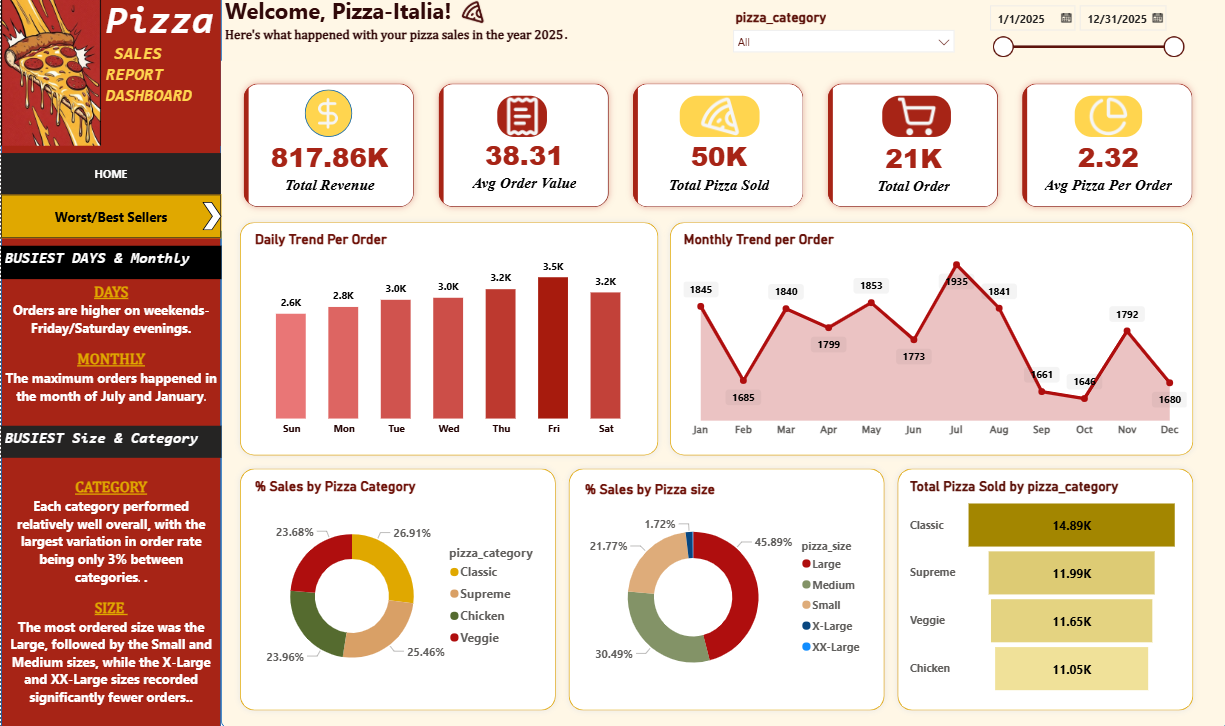

Layout of this report page (visuals, bound fields, positions):
{"tool":"powerbi","page":{"name":"HOME","canvas":[1500,900],"ordinal":0},"visuals":[{"type":"shape","box":[0,0,269,900.3],"z":0},{"type":"shape","box":[269,0,1230.5,900.3],"z":1000},{"type":"image","box":[0,0,122.3,188],"z":2000},{"type":"textbox","box":[122.3,0,146.7,188],"z":3000},{"type":"cardVisual","fields":{"Data":["pizza_sale.Total Revenue","pizza_sale.Avg Order Value","pizza_sale.Total Pizza Sold","pizza_sale.Total Order","pizza_sale.Avg Pizza Per Order"]},"box":[269,84.1,1218.2,207.9],"z":4000},{"type":"shape","box":[371.4,119.2,58.1,58.1],"z":5000},{"type":"image","box":[379.1,119.2,41.3,58.1],"z":6000},{"type":"image","box":[606.8,126.9,61.1,50.4],"z":7000},{"type":"image","box":[830,126.9,97.8,50.4],"z":8000},{"type":"image","box":[1077.6,126.9,84.1,50.4],"z":9000},{"type":"image","box":[1313,126.9,82.5,50.4],"z":10000},{"type":"textbox","box":[269,0,440.2,70.3],"z":11000},{"type":"image","box":[562.5,6.1,29,36.7],"z":12000},{"type":"shape","box":[284.3,273.6,527.3,301.1],"z":13000},{"type":"columnChart","title":"Daily Trend Per  Order","fields":{"Category":["pizza_sale.Order Day "],"Y":["pizza_sale.Total Order"]},"box":[305.7,292,484.5,259.9],"z":14000},{"type":"shape","box":[810.1,273.6,655.7,301.1],"z":15000},{"type":"areaChart","title":"Monthly Trend per Order","fields":{"Category":["pizza_sale.Month"],"Y":["pizza_sale.Total Order"]},"box":[830,292,625.2,264.4],"z":16000},{"type":"shape","box":[284.3,574.7,402,311.8],"z":17000},{"type":"shape","box":[686.3,574.7,402,311.8],"z":18000},{"type":"shape","box":[1088.3,574.7,377.5,311.8],"z":19000},{"type":"donutChart","title":"% Sales by Pizza Category","fields":{"Category":["pizza_sale.pizza_category"],"Y":["pizza_sale.Total Revenue"]},"box":[305.7,594.6,362.3,269],"z":20000},{"type":"donutChart","title":"% Sales by Pizza size","fields":{"Category":["pizza_sale.pizza_size"],"Y":["pizza_sale.Total Revenue"]},"box":[709.2,597.7,357.7,266],"z":21000},{"type":"funnel","fields":{"Category":["pizza_sale.pizza_category"],"Y":["pizza_sale.Total Pizza Sold"]},"box":[1106.3,594.1,338.8,269.5],"z":22000},{"type":"textbox","box":[0,310.5,269.5,41],"z":23000},{"type":"textbox","box":[0,351.4,269.5,165.5],"z":24000},{"type":"textbox","box":[0,531.1,269.5,39.4],"z":25000},{"type":"textbox","box":[0,573.7,269.5,312],"z":26000},{"type":"slicer","fields":{"Values":["pizza_sale.pizza_category"]},"box":[885,15.3,290.4,68.8],"z":27000},{"type":"slicer","fields":{"Values":["pizza_sale.order_date_new"]},"box":[1196.8,6.1,258.3,78],"z":28000},{"type":"pageNavigator","box":[0,197,269.5,50.4],"z":29000},{"type":"pageNavigator","box":[0,247.4,269.5,53.6],"z":30000},{"type":"shape","box":[245.9,256.9,23.6,34.7],"z":30001}]}

Visuals, with their boxes in screenshot pixels (x1, y1, x2, y2), scaled from the page's 1500x900 canvas onto the 1225x726 screenshot:
shape: pyautogui.locateOnScreen(0, 0, 220, 725)
shape: pyautogui.locateOnScreen(220, 0, 1224, 725)
image: pyautogui.locateOnScreen(0, 0, 100, 152)
textbox: pyautogui.locateOnScreen(100, 0, 220, 152)
cardVisual - pizza_sale.Total Revenue x pizza_sale.Avg Order Value: pyautogui.locateOnScreen(220, 68, 1215, 236)
shape: pyautogui.locateOnScreen(303, 96, 351, 143)
image: pyautogui.locateOnScreen(310, 96, 343, 143)
image: pyautogui.locateOnScreen(496, 102, 545, 143)
image: pyautogui.locateOnScreen(678, 102, 758, 143)
image: pyautogui.locateOnScreen(880, 102, 949, 143)
image: pyautogui.locateOnScreen(1072, 102, 1140, 143)
textbox: pyautogui.locateOnScreen(220, 0, 579, 57)
image: pyautogui.locateOnScreen(459, 5, 483, 35)
shape: pyautogui.locateOnScreen(232, 221, 663, 464)
"Daily Trend Per  Order" columnChart: pyautogui.locateOnScreen(250, 236, 645, 445)
shape: pyautogui.locateOnScreen(662, 221, 1197, 464)
"Monthly Trend per Order" areaChart: pyautogui.locateOnScreen(678, 236, 1188, 449)
shape: pyautogui.locateOnScreen(232, 464, 560, 715)
shape: pyautogui.locateOnScreen(560, 464, 889, 715)
shape: pyautogui.locateOnScreen(889, 464, 1197, 715)
"% Sales by Pizza Category" donutChart: pyautogui.locateOnScreen(250, 480, 546, 697)
"% Sales by Pizza size" donutChart: pyautogui.locateOnScreen(579, 482, 871, 697)
funnel - pizza_sale.pizza_category x pizza_sale.Total Pizza Sold: pyautogui.locateOnScreen(903, 479, 1180, 697)
textbox: pyautogui.locateOnScreen(0, 250, 220, 284)
textbox: pyautogui.locateOnScreen(0, 283, 220, 417)
textbox: pyautogui.locateOnScreen(0, 428, 220, 460)
textbox: pyautogui.locateOnScreen(0, 463, 220, 714)
slicer - pizza_sale.pizza_category: pyautogui.locateOnScreen(723, 12, 960, 68)
slicer - pizza_sale.order_date_new: pyautogui.locateOnScreen(977, 5, 1188, 68)
pageNavigator: pyautogui.locateOnScreen(0, 159, 220, 200)
pageNavigator: pyautogui.locateOnScreen(0, 200, 220, 243)
shape: pyautogui.locateOnScreen(201, 207, 220, 235)
